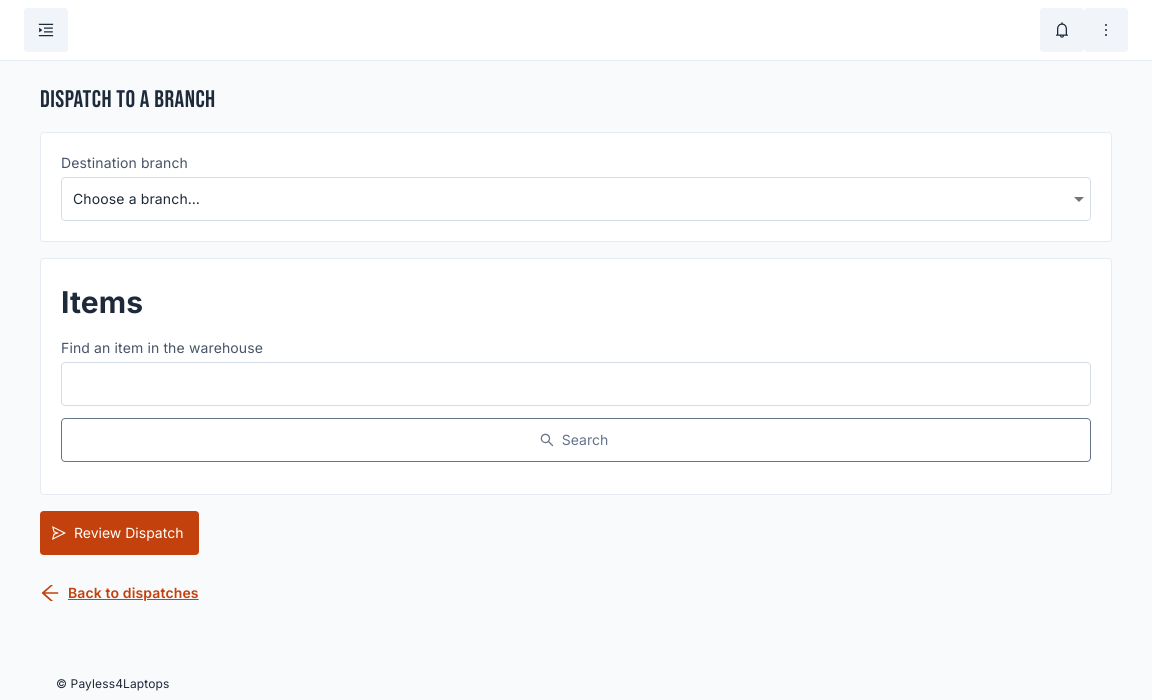
Test case: new dispatch (F5.2) › lists only branches to send to, and shows what is available for each item
Type "HP" into the field labelled "Find an item in the warehouse" at [576, 384], box [61,362,1091,406]
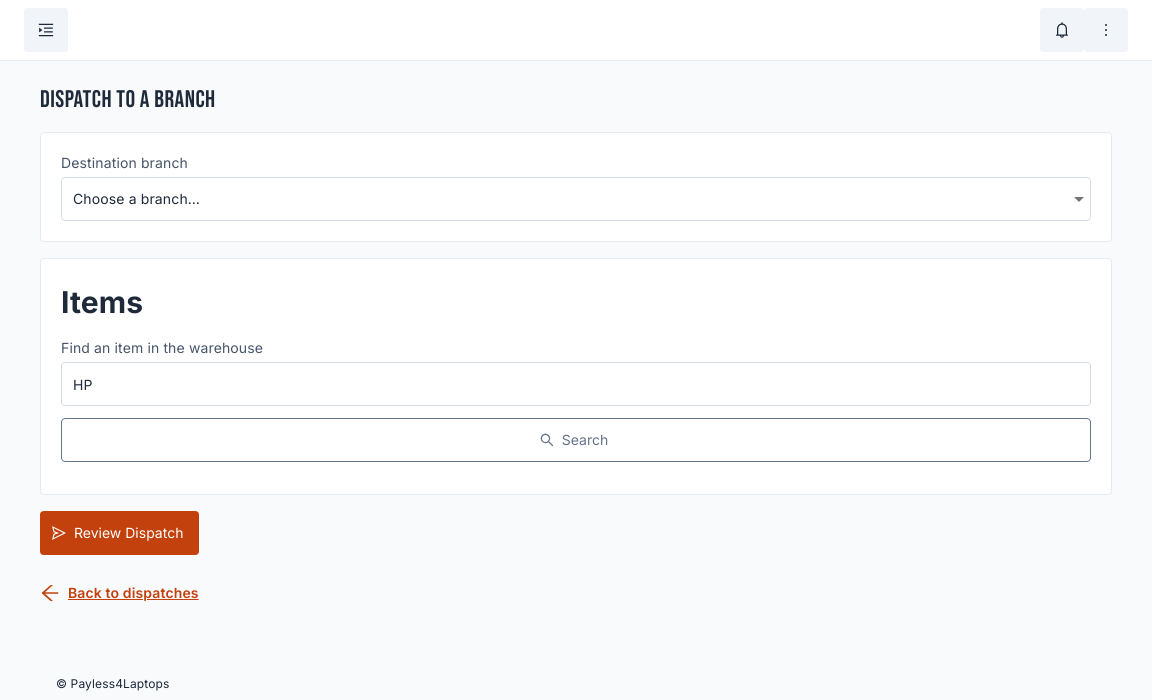
Click the button "Search" at [576, 440], box [61,418,1091,462]
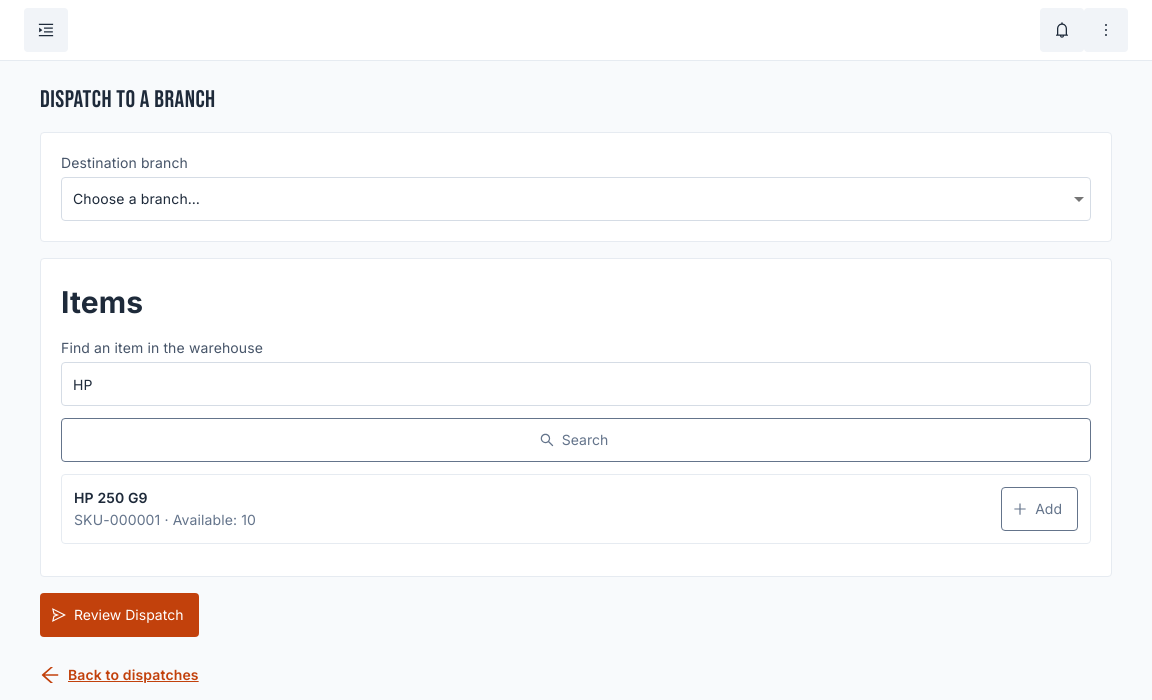
Result: the text "SKU-000001 · Available: 10" is shown at [74,509,256,531]
Click the button with aria-label "Add HP 250 G9" at [1040, 509], box [1001,487,1078,531]
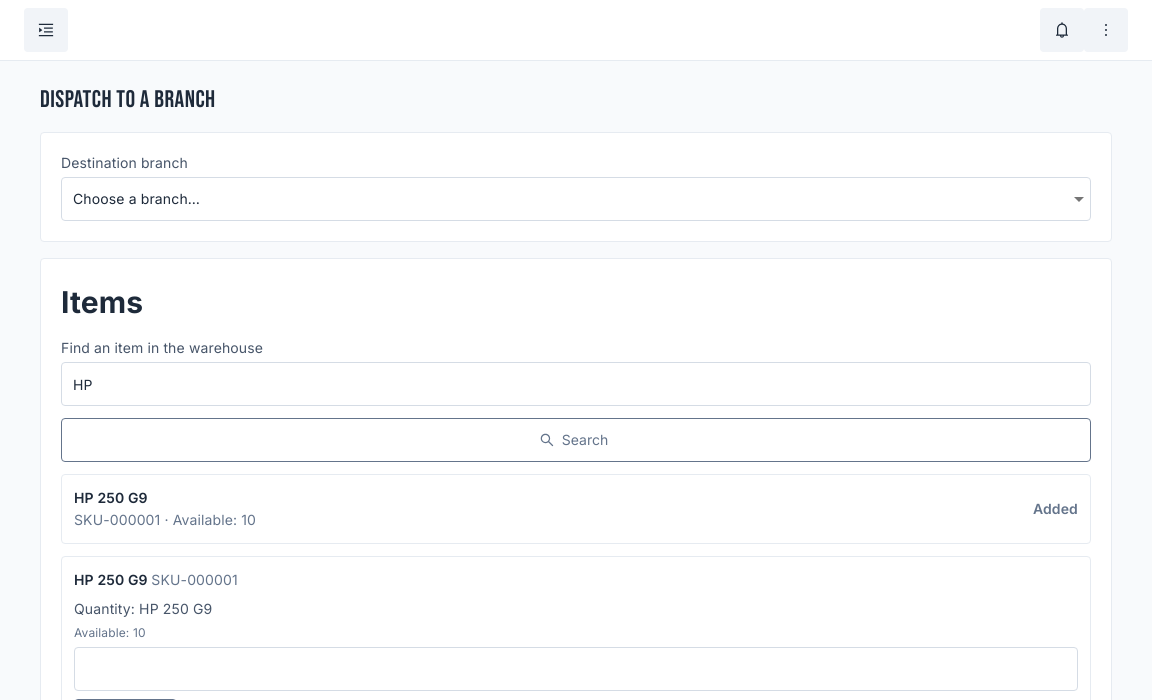
Result: the text "Added" is shown at [1033,498,1078,520]
Result: the text "Available: 10" is shown at [74,625,146,640]
